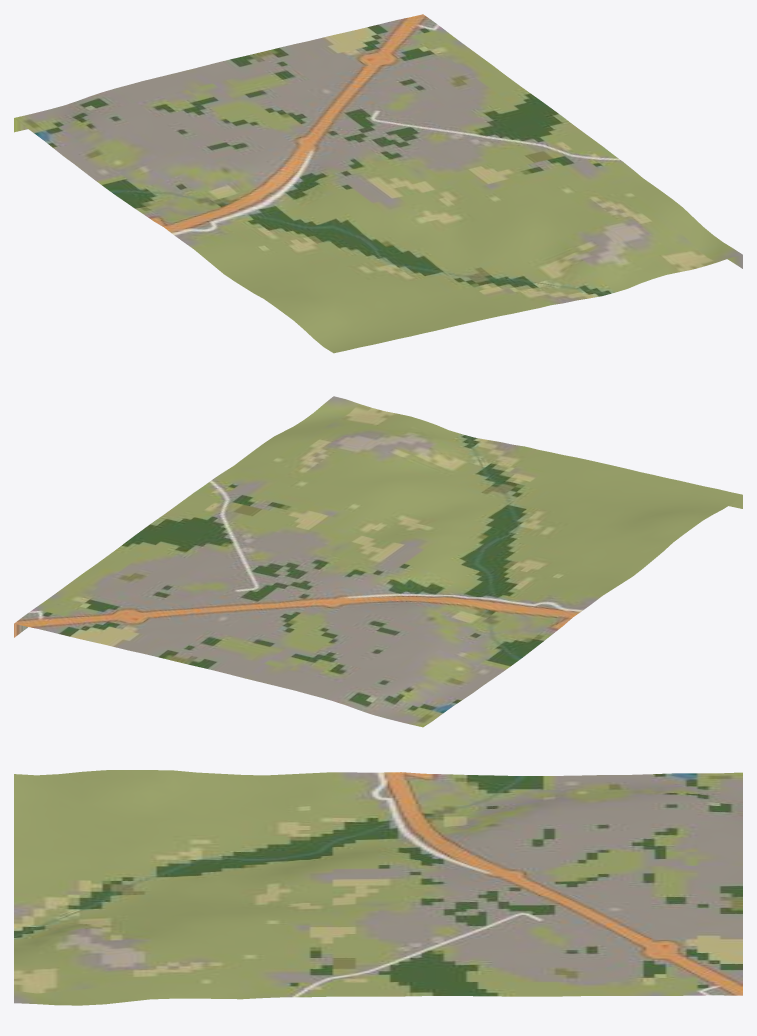
The picture shows the model from 3 angles, top to bottom: view 1: azimuth 30°, elevation 25°; view 2: azimuth 150°, elevation 25°; view 3: azimuth 270°, elevation 25°; orthographic projection. The views are drawn at different scales.
Bounding box in the file's own units: 902 × 63.22 × 1221.
1 material, 1 textured.
